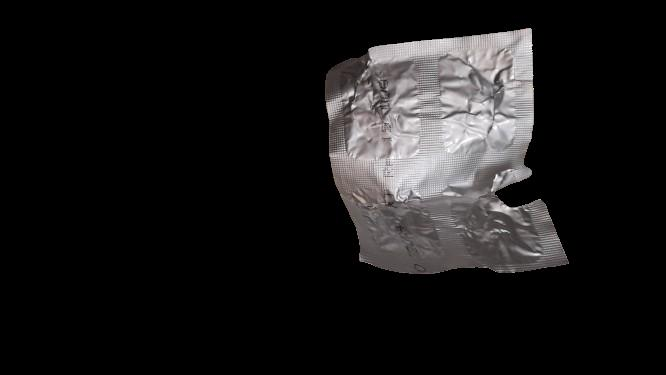Plastik: (319, 26, 575, 280)
